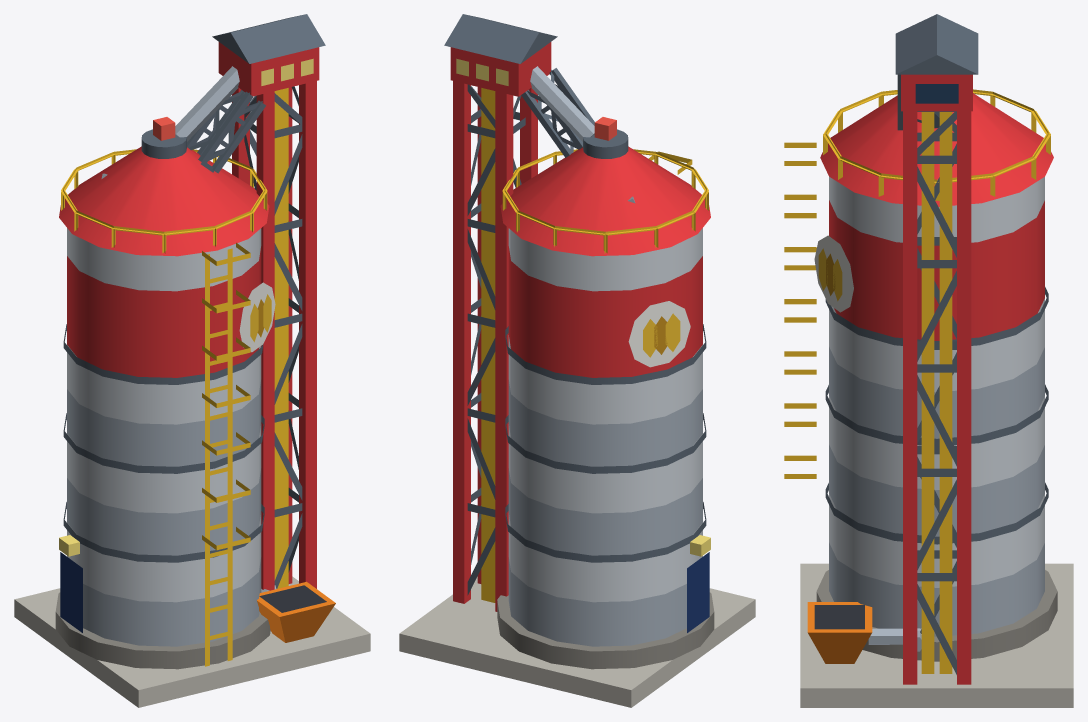
The model's file is silo.glb.
3 views of the same model, side by side, from view 1: azimuth 30°, elevation 25°; view 2: azimuth 150°, elevation 25°; view 3: azimuth 270°, elevation 25° (orthographic). The views are drawn at different scales.
Parts seen in each view (by area): view 1: Body; view 2: Body; view 3: Body.
Boxes of the visible parts, x1,y1,x2,y2 form: Body: (14, 14, 370, 707); Body: (399, 14, 755, 707); Body: (784, 14, 1073, 707).
Size of the model in its own units: 0.865 by 2 by 0.805.
